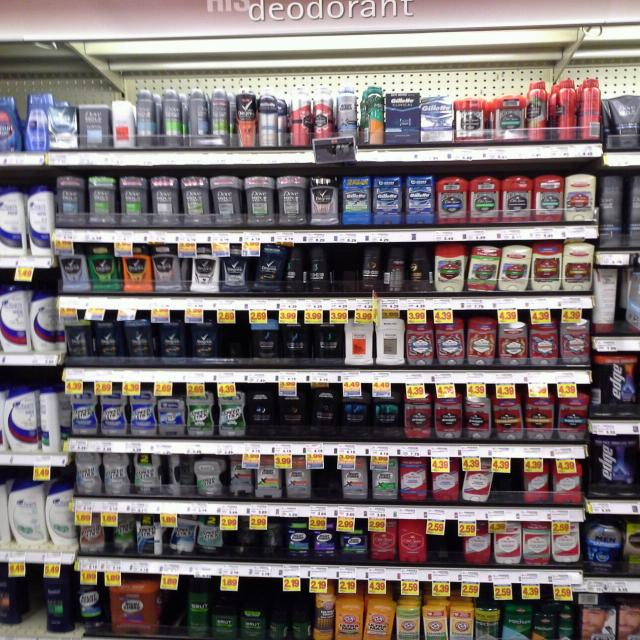unorganised: (466, 242, 532, 292), (57, 247, 121, 292), (167, 512, 224, 560), (556, 79, 601, 139), (286, 245, 330, 295), (29, 287, 60, 350), (460, 455, 494, 506), (254, 243, 285, 294), (187, 246, 221, 292), (363, 598, 397, 640), (269, 609, 313, 640), (289, 88, 311, 147), (164, 454, 191, 500), (186, 88, 207, 143), (361, 243, 383, 293), (228, 458, 253, 499), (412, 248, 434, 293), (259, 519, 283, 559), (385, 246, 405, 290)
